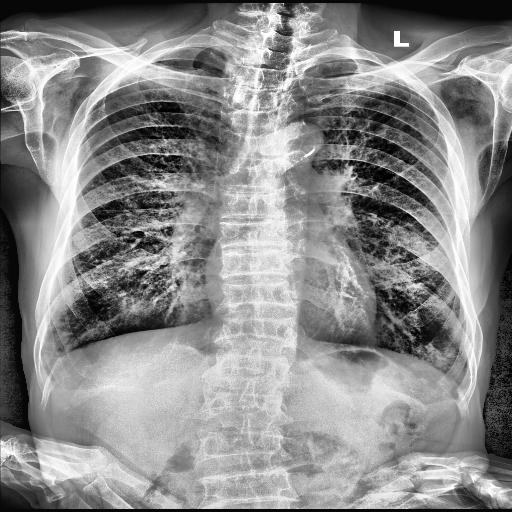0- Aortic enlargement: (280, 119, 324, 156)
10- Pleural effusion: (40, 348, 68, 386)
11- Pleural thickening: (40, 348, 68, 386)
5- ILD: (90, 106, 226, 324), (324, 106, 445, 344), (336, 82, 451, 327), (90, 88, 200, 312), (331, 72, 416, 150)
6- Infiltration: (336, 82, 451, 327), (90, 88, 200, 312), (375, 226, 442, 316), (110, 272, 174, 328)
